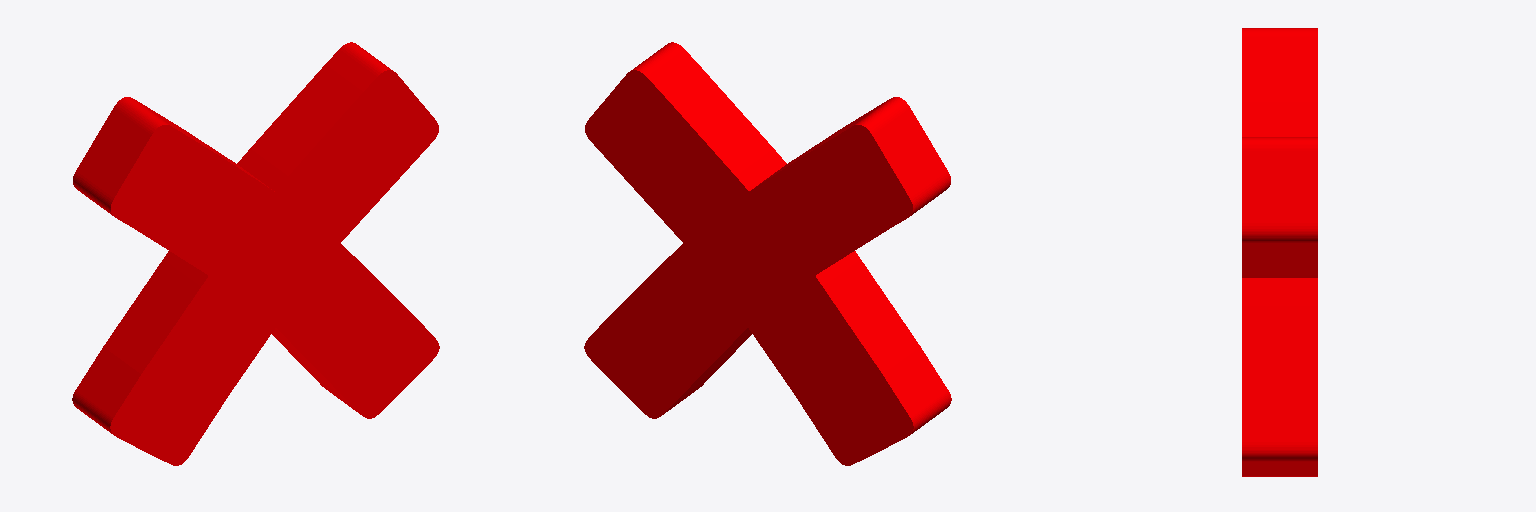
The model's file is tick_no.obj.
3 renders of one model, left to right at view 1: azimuth 30°, elevation 25°; view 2: azimuth 150°, elevation 25°; view 3: azimuth 270°, elevation 25°, orthographic.
Parts seen in each view (by area): view 1: Cap_1, Extrude; view 2: Cap_2, Extrude; view 3: Extrude.
Boxes of the visible parts, box(x1,y1,x2,y2) form: Cap_1: box(110, 70, 439, 465); Extrude: box(72, 42, 392, 433); Cap_2: box(584, 70, 913, 465); Extrude: box(631, 42, 951, 433); Extrude: box(1242, 28, 1317, 476).
Size of the model in its own units: 10 by 10 by 2.